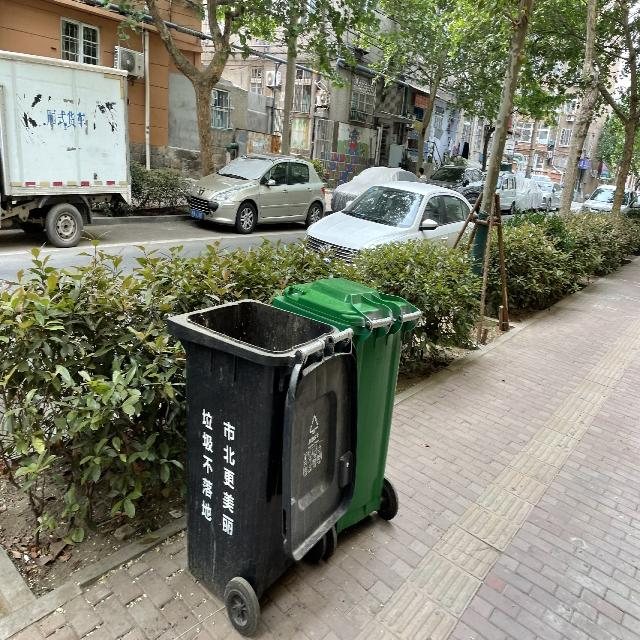garbage_bin: (165, 298, 356, 603), (271, 275, 421, 530)
